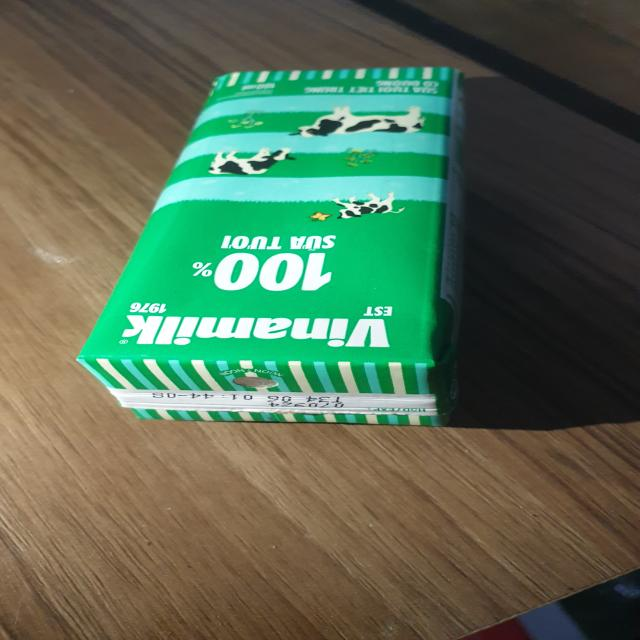Vina: (67, 63, 478, 435)
